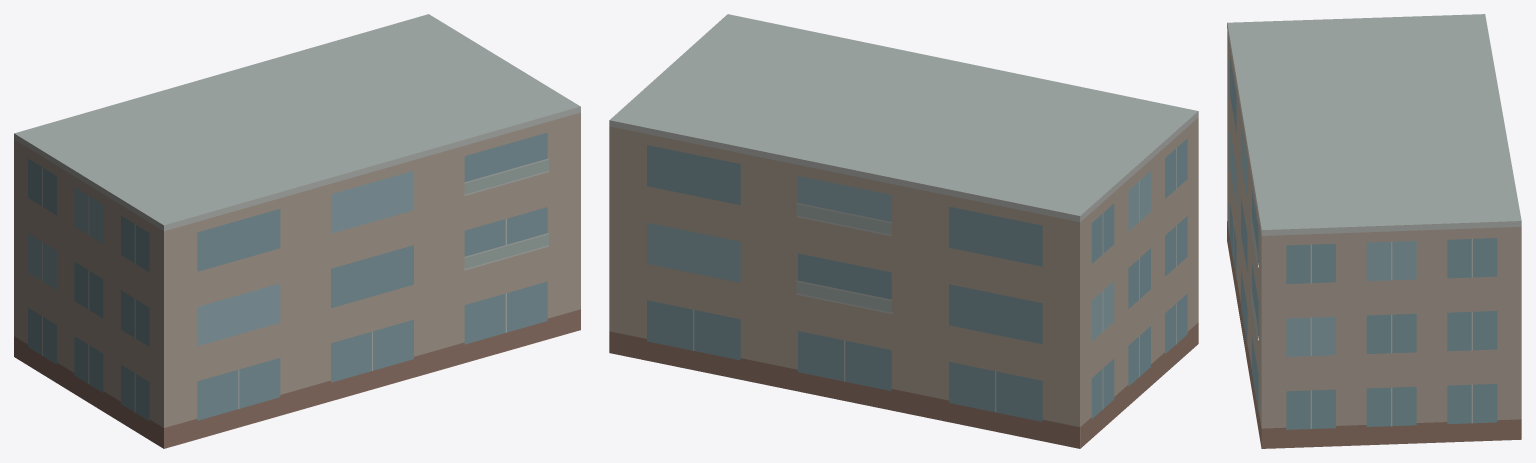
File: survey-upis-32757688.glb
3 views of the same model, side by side, from view 1: azimuth 30°, elevation 25°; view 2: azimuth 150°, elevation 25°; view 3: azimuth 270°, elevation 25° (orthographic). The views are drawn at different scales.
Parts seen in each view (by area): view 1: survey-upis-32757688.tmp; view 2: survey-upis-32757688.tmp; view 3: survey-upis-32757688.tmp.
Boxes of the visible parts, left/top/right/bottom form: survey-upis-32757688.tmp: left=14, top=14, right=580, bottom=448; survey-upis-32757688.tmp: left=609, top=14, right=1198, bottom=448; survey-upis-32757688.tmp: left=1227, top=14, right=1521, bottom=448.
Bounding box in the file's own units: 19.4 × 9.15 × 11.17.
